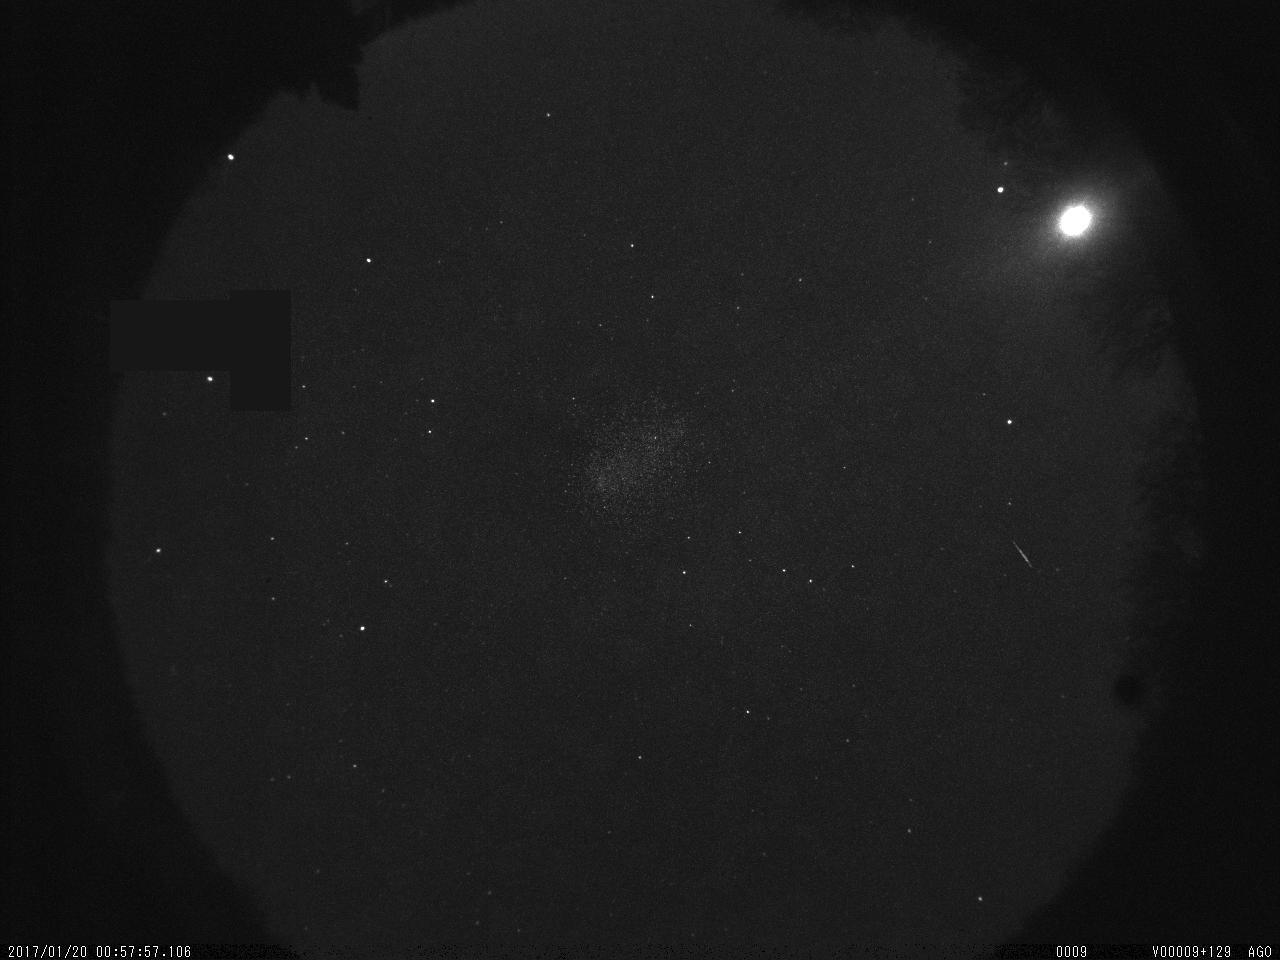meteor: (1005, 539, 1044, 578)
